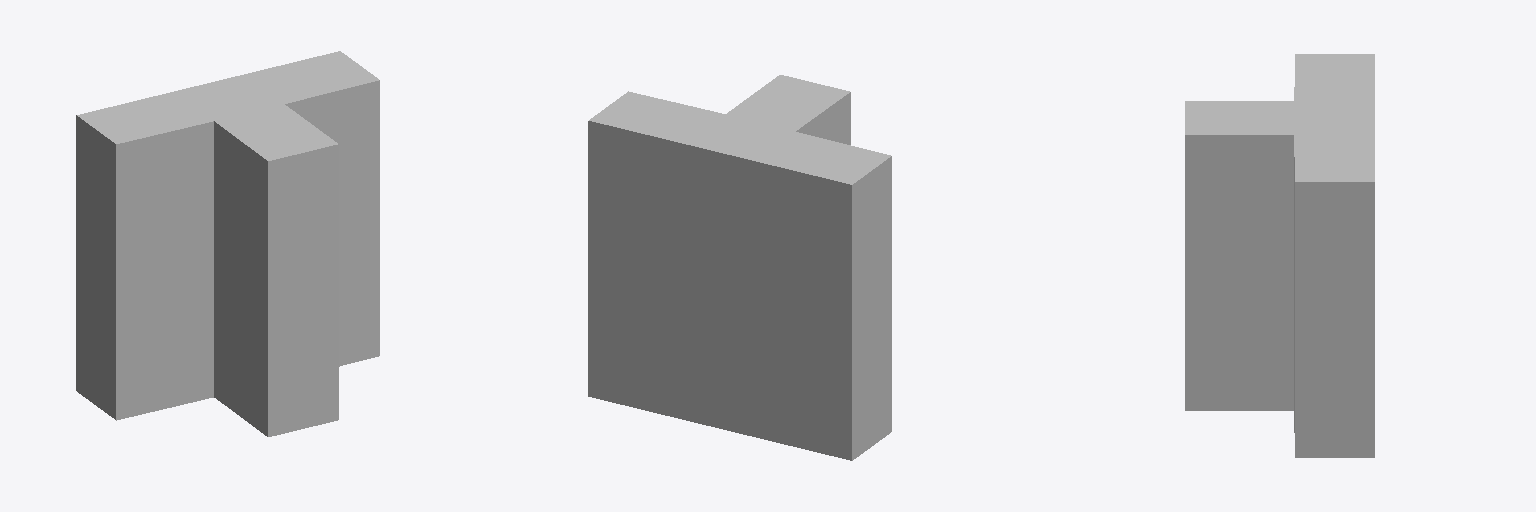
The model's file is wall_Tsplit.obj.
3 renders of one model, left to right at view 1: azimuth 30°, elevation 25°; view 2: azimuth 150°, elevation 25°; view 3: azimuth 270°, elevation 25°, orthographic.
Parts seen in each view (by area): view 1: Cube; view 2: Cube; view 3: Cube.
Boxes of the visible parts, x1,y1,x2,y2 form: Cube: [76, 51, 379, 436]; Cube: [588, 75, 891, 460]; Cube: [1185, 54, 1374, 457].
Size of the model in its own units: 4 by 4 by 2.5.